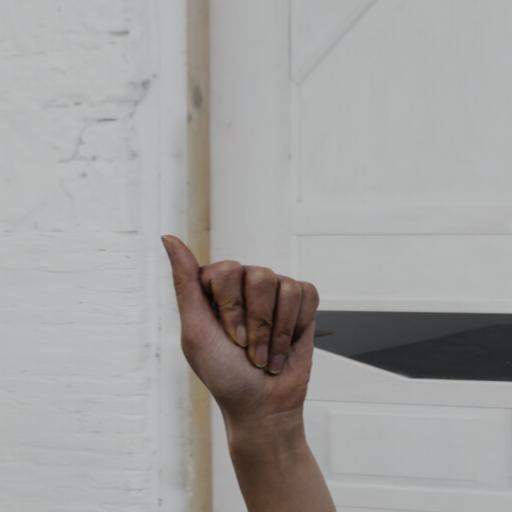A: (154, 228, 325, 426)
